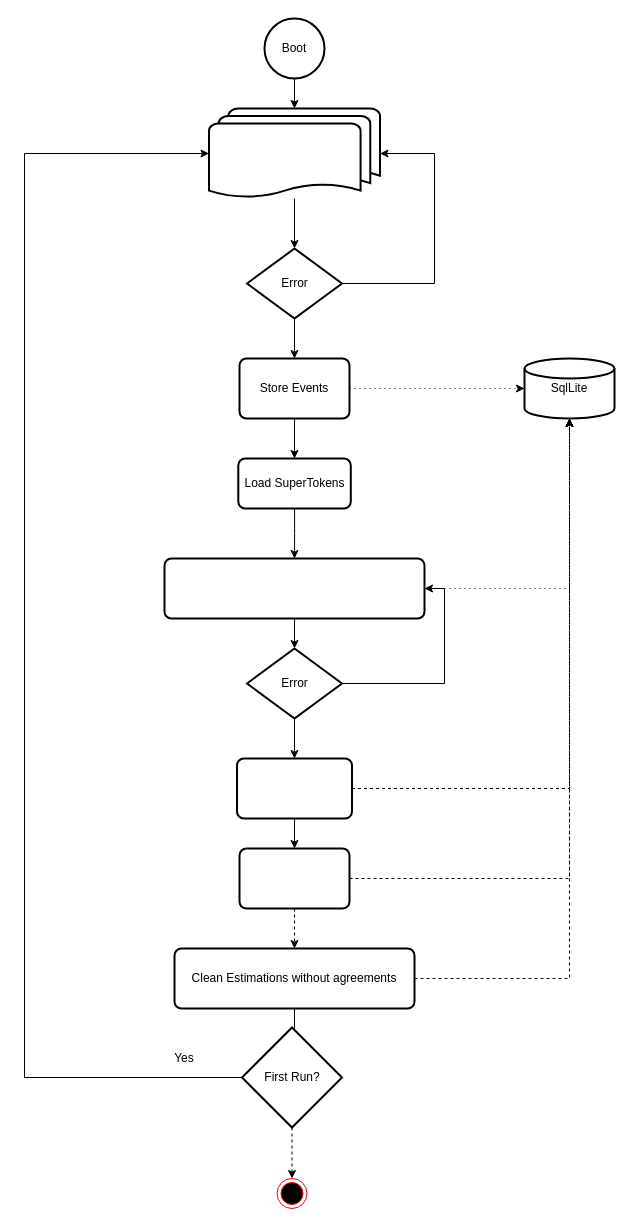
Some shapes in this 633 by 1226 pixel diagram are drawn without their labels. The box of each missing label's shape, as (x1, y1, x2, y2) in pixels:
Estimate each account by SuperToken: (163, 557, 425, 619)
FlowUpdated Events: (208, 107, 380, 199)
Store Agreements: (238, 847, 350, 909)
Store Estimations: (236, 757, 352, 819)
